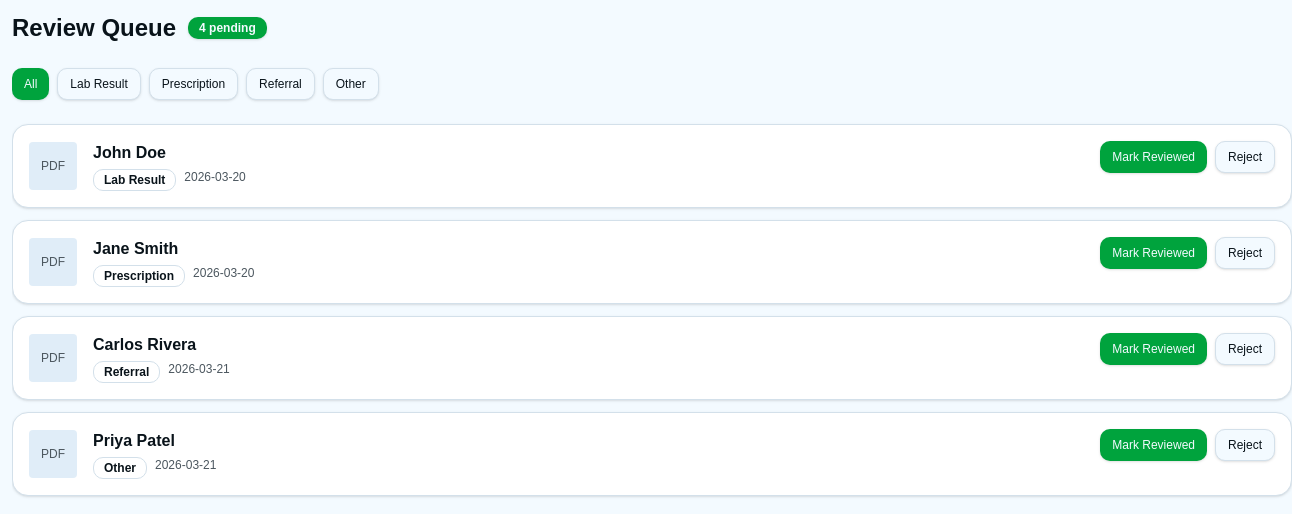
Test: ReviewQueuePage › Filter by category shows only matching items
Expected: the text "John Doe" is shown, [93, 144, 166, 161]
Click the button "Lab Result" at (99, 84), box [57, 68, 141, 100]
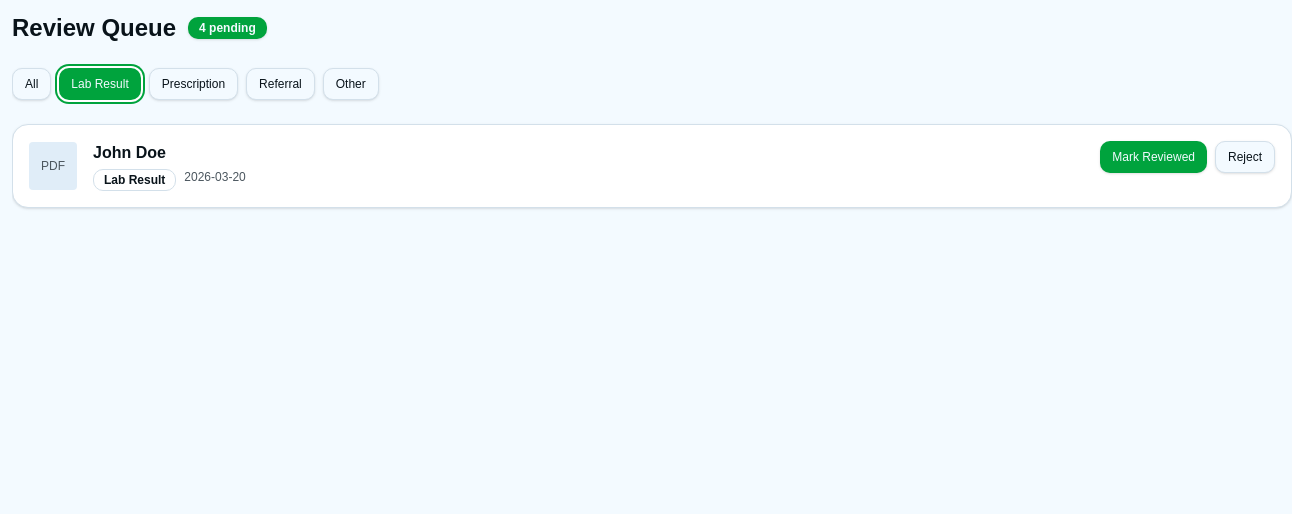
Expected: the text "John Doe" is shown, [93, 144, 166, 161]
Expected: the text "Jane Smith" is gone
